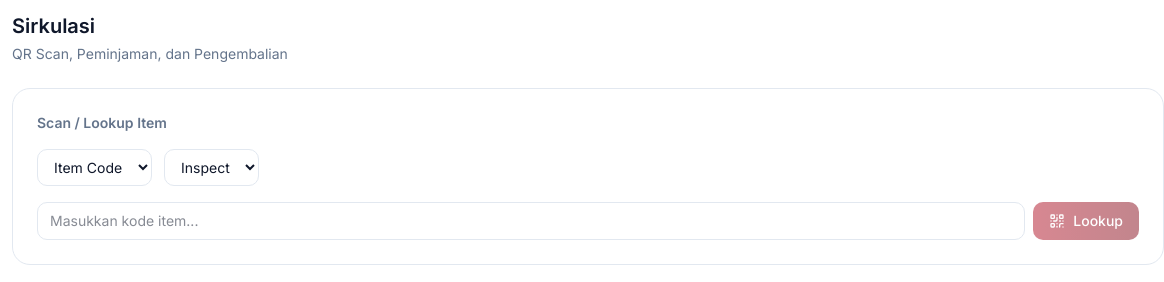
Test case: CirculationSection › enables scan button when input is provided
In the field with placeholder "Masukkan kode item...": coordinates (531, 221) [37,202,1025,240], type "ITEM-001"
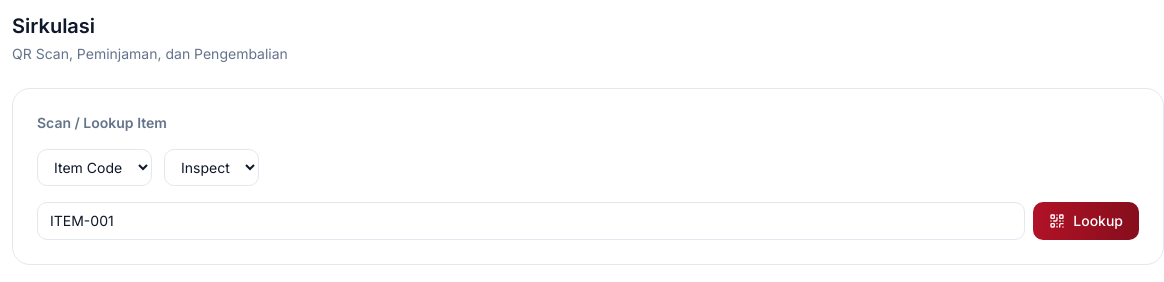
Expected: the button "Lookup" is enabled, [1033,202,1139,240]
